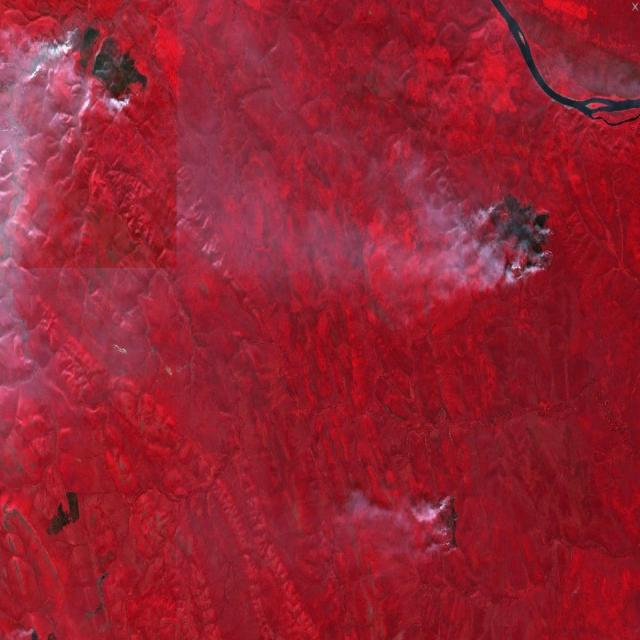fire: (470, 180, 556, 300), (56, 15, 151, 116), (429, 486, 464, 562)
